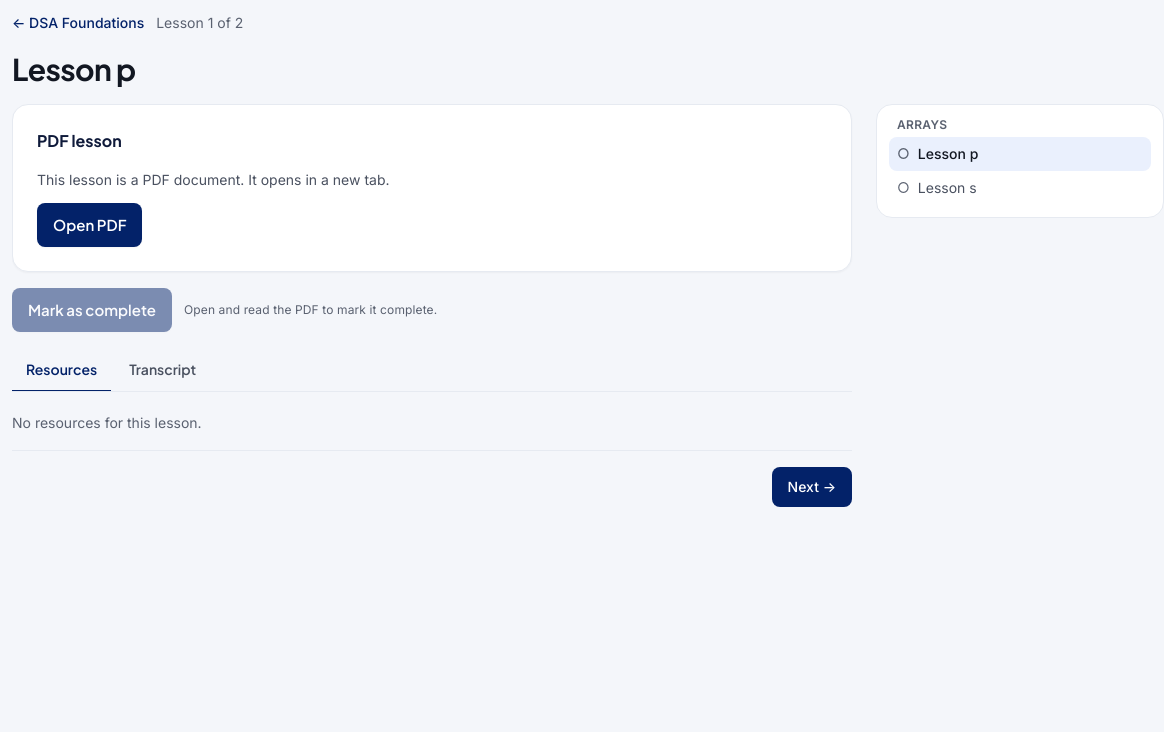
LessonView lesson types › opens a PDF lesson through MED-07 with lesson_asset_id and then allows completion
Check: the button "Mark as complete" is disabled, box x1=12 y1=288 x2=172 y2=332
Step 1. Click the button "Open PDF" → point(90, 225), box x1=37 y1=203 x2=142 y2=247
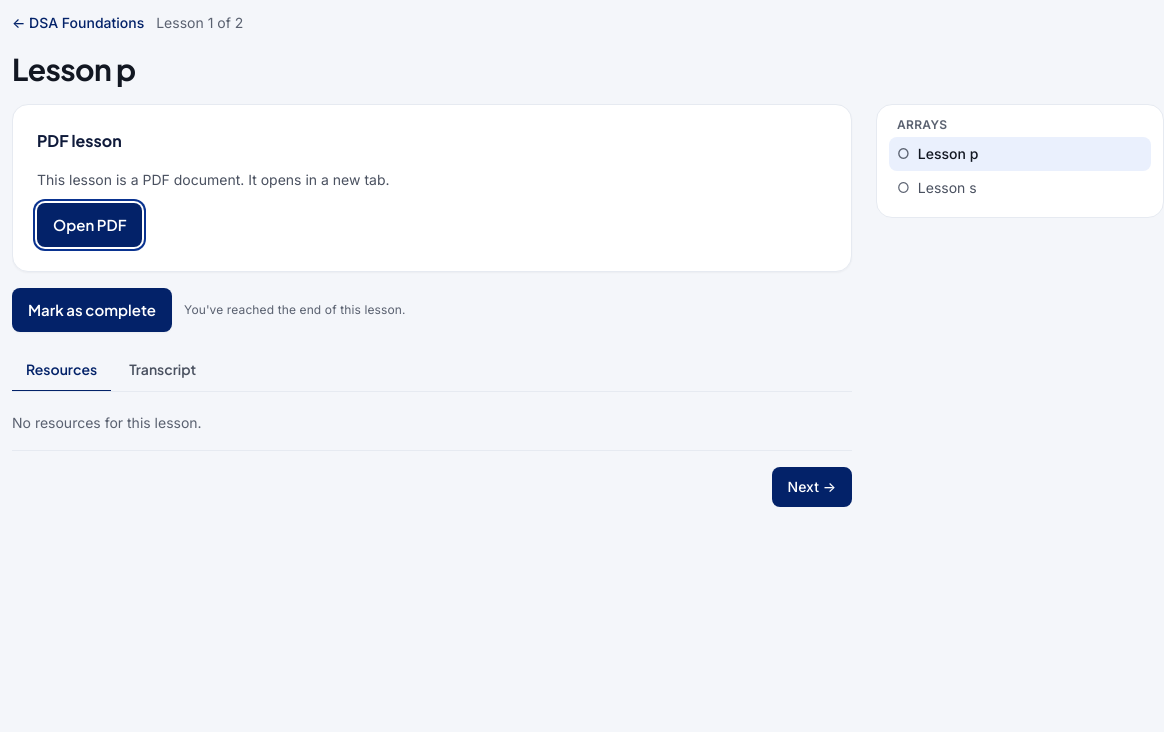
Check: the button "Mark as complete" is enabled, box x1=12 y1=288 x2=172 y2=332
